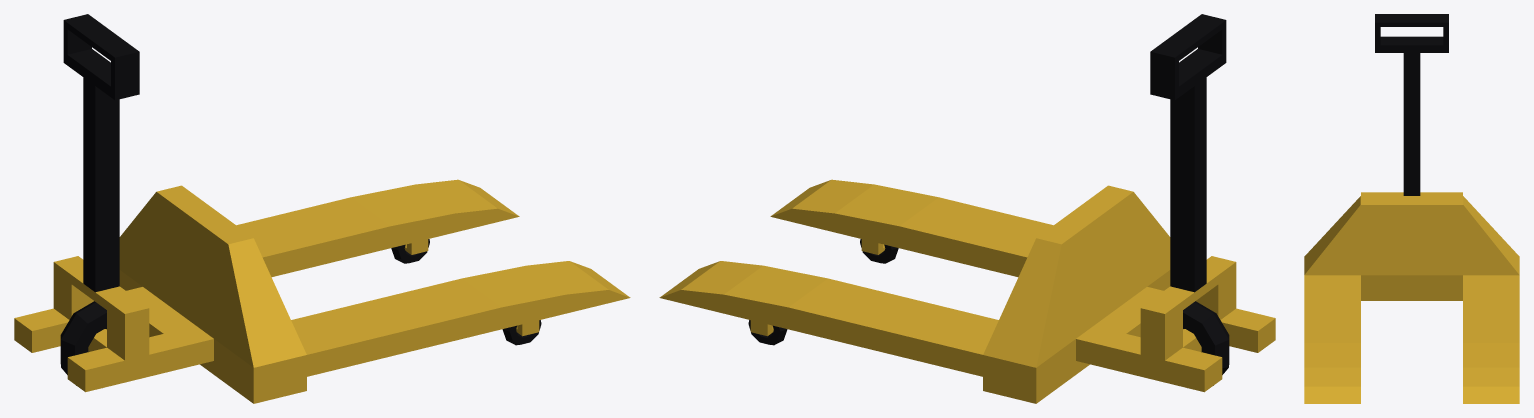
Rendered from ForkliftTrolley.fbx.
3 renders of one model, left to right at view 1: azimuth 30°, elevation 25°; view 2: azimuth 150°, elevation 25°; view 3: azimuth 270°, elevation 25°, orthographic. The views are drawn at different scales.
Visible parts, largest first — view 1: ForkliftTrolley; view 2: ForkliftTrolley; view 3: ForkliftTrolley.
Part boxes in pixels (box(x1,y1,x2,y2)): ForkliftTrolley: box(14, 14, 630, 403); ForkliftTrolley: box(659, 14, 1275, 403); ForkliftTrolley: box(1304, 14, 1519, 403).
Bounding box in the file's own units: 147 × 99.16 × 75.95.
